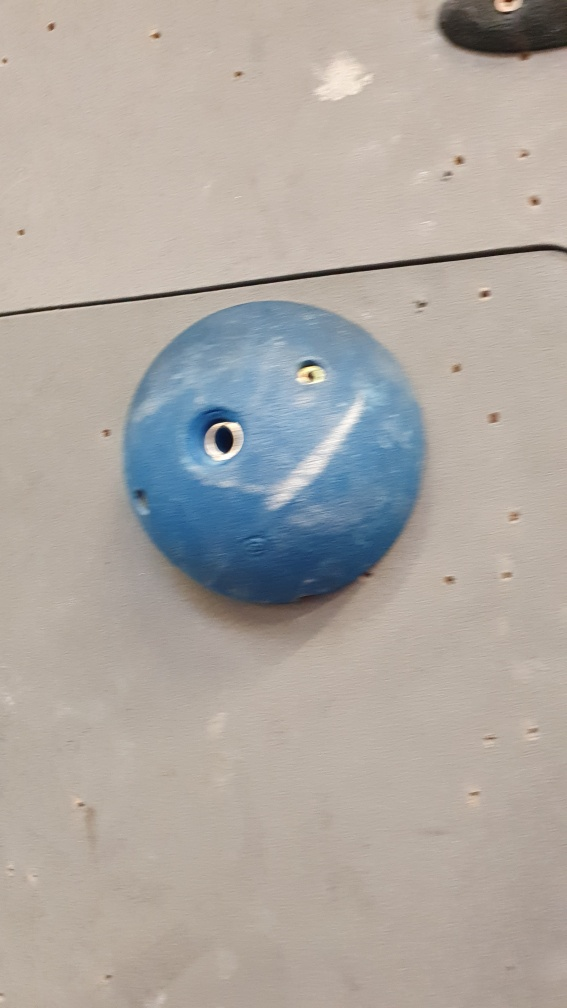Sloper: (120, 298, 437, 610)
